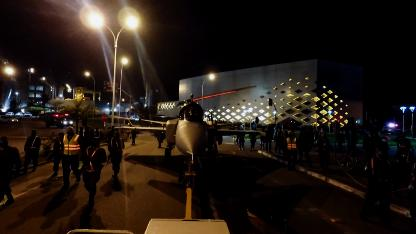JAS39: (115, 92, 267, 188)
